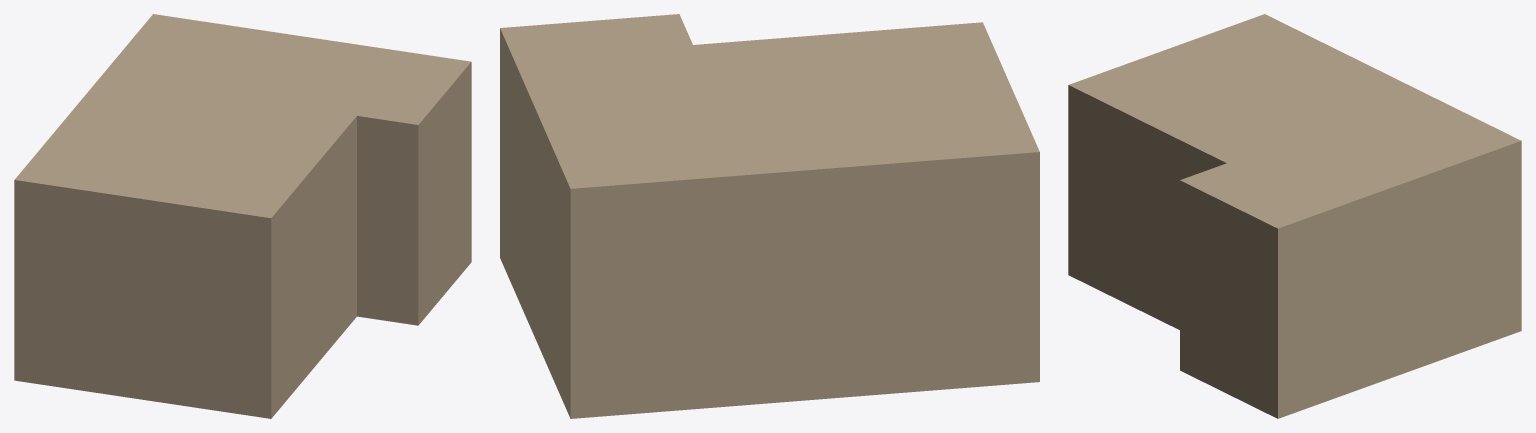
The model's file is bld_55879446.dae.
The picture shows the model from 3 angles, left to right: view 1: azimuth 30°, elevation 25°; view 2: azimuth 150°, elevation 25°; view 3: azimuth 270°, elevation 25°; orthographic projection. The views are drawn at different scales.
Parts seen in each view (by area): view 1: bld_55879446; view 2: bld_55879446; view 3: bld_55879446.
Boxes of the visible parts, x1,y1,x2,y2 form: bld_55879446: (14, 14, 471, 418); bld_55879446: (500, 14, 1039, 418); bld_55879446: (1068, 14, 1521, 418).
Bounding box in the file's own units: 19.36 × 17.26 × 8.
